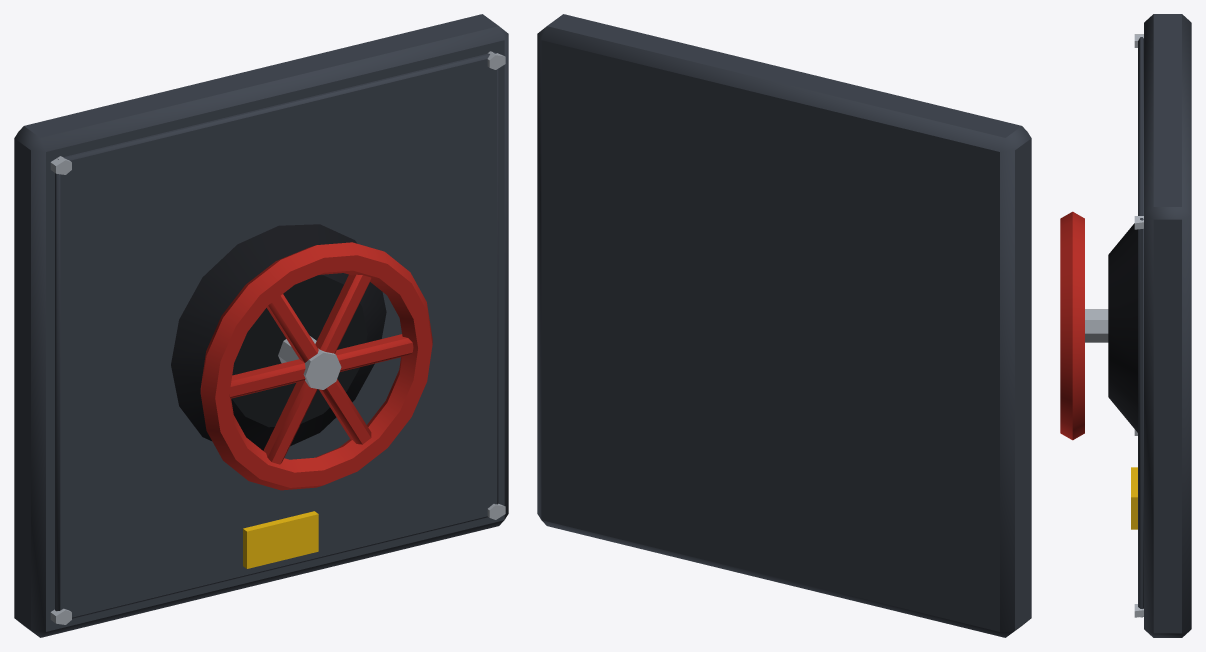
File: controlpanel_valve_control.glb
3 views of the same model, side by side, from view 1: azimuth 30°, elevation 25°; view 2: azimuth 150°, elevation 25°; view 3: azimuth 270°, elevation 25° (orthographic). The views are drawn at different scales.
Parts seen in each view (by area): view 1: controlpanel_valve_control; view 2: controlpanel_valve_control; view 3: controlpanel_valve_control.
Boxes of the visible parts, x1=… form: controlpanel_valve_control: x1=14, y1=14, x2=508, y2=637; controlpanel_valve_control: x1=537, y1=14, x2=1031, y2=637; controlpanel_valve_control: x1=1060, y1=14, x2=1191, y2=637.
Bounding box in the file's own units: 0.4 × 0.4 × 0.1104.
